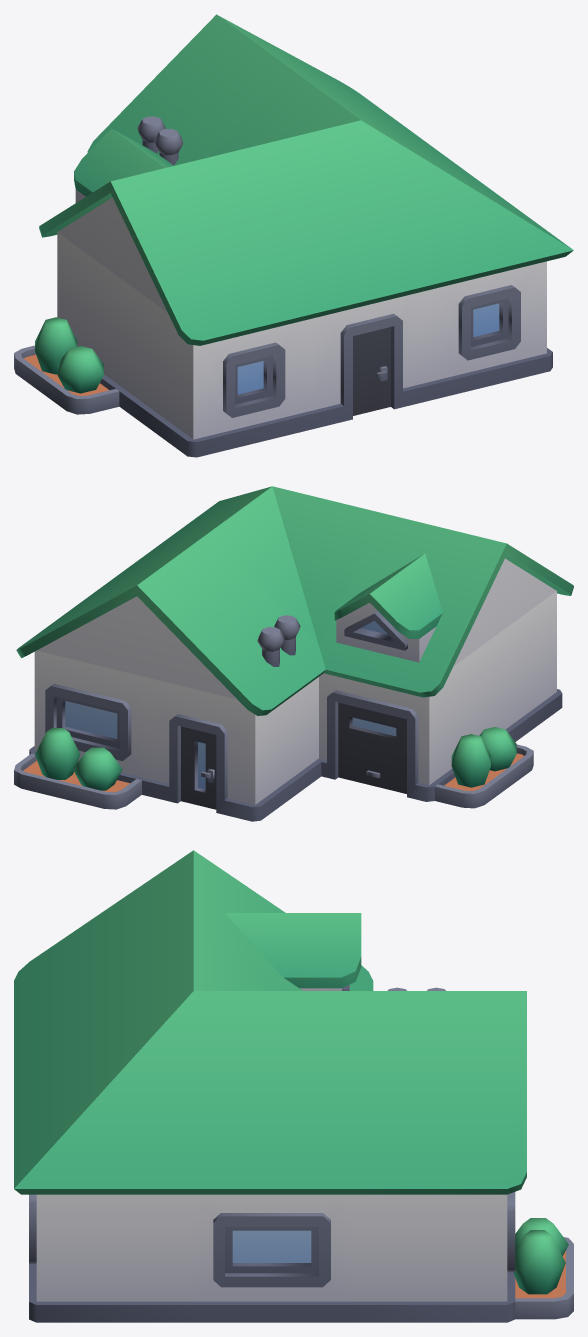
Rendered from lodge.glb.
3 views of the same model, one above another, from view 1: azimuth 30°, elevation 25°; view 2: azimuth 150°, elevation 25°; view 3: azimuth 270°, elevation 25° (orthographic). The views are drawn at different scales.
Parts seen in each view (by area): view 1: lodge; view 2: lodge; view 3: lodge.
Boxes of the visible parts, x1=… form: lodge: x1=14, y1=14, x2=573, y2=457; lodge: x1=14, y1=486, x2=573, y2=821; lodge: x1=14, y1=850, x2=573, y2=1322.
Size of the model in its own units: 1.43 by 0.7375 by 1.43.
